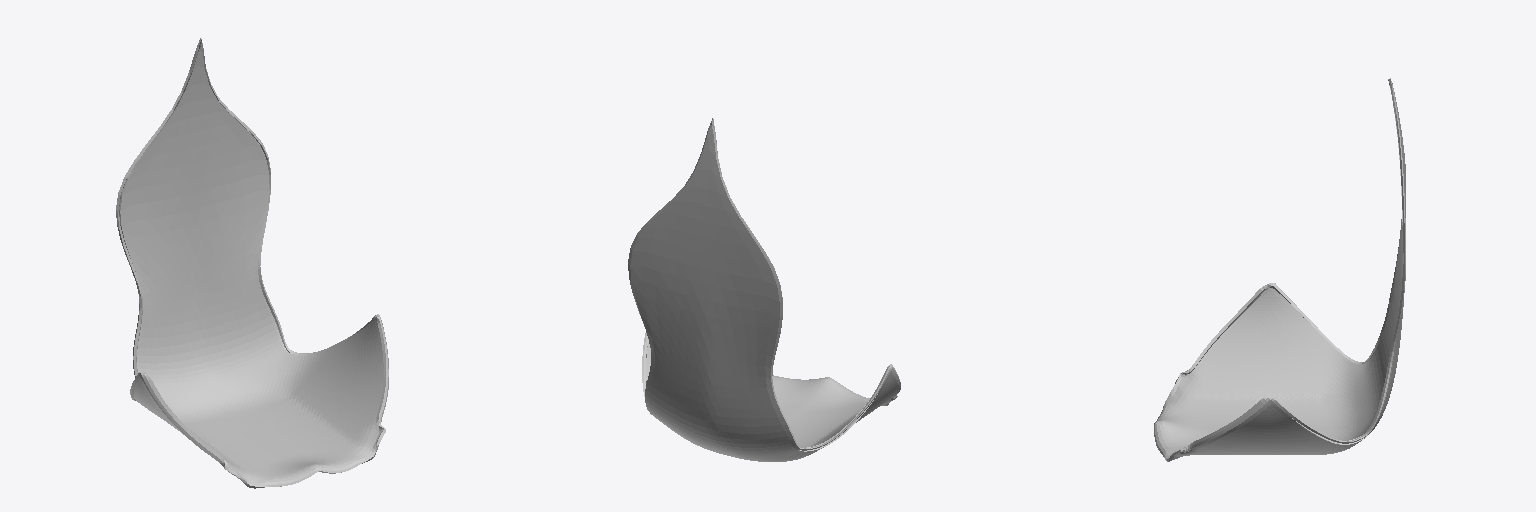
File: fauteuil.obj
The picture shows the model from 3 angles: view 1: azimuth 30°, elevation 25°; view 2: azimuth 150°, elevation 25°; view 3: azimuth 270°, elevation 25°; orthographic projection.
Visible parts, largest first — view 1: siège_Z_Function; view 2: siège_Z_Function; view 3: siège_Z_Function.
Boxes of the visible parts, x1=… form: siège_Z_Function: x1=116, y1=38, x2=388, y2=488; siège_Z_Function: x1=628, y1=118, x2=900, y2=461; siège_Z_Function: x1=1154, y1=78, x2=1405, y2=461.
Size of the model in its own units: 4.14 by 5.92 by 3.78.